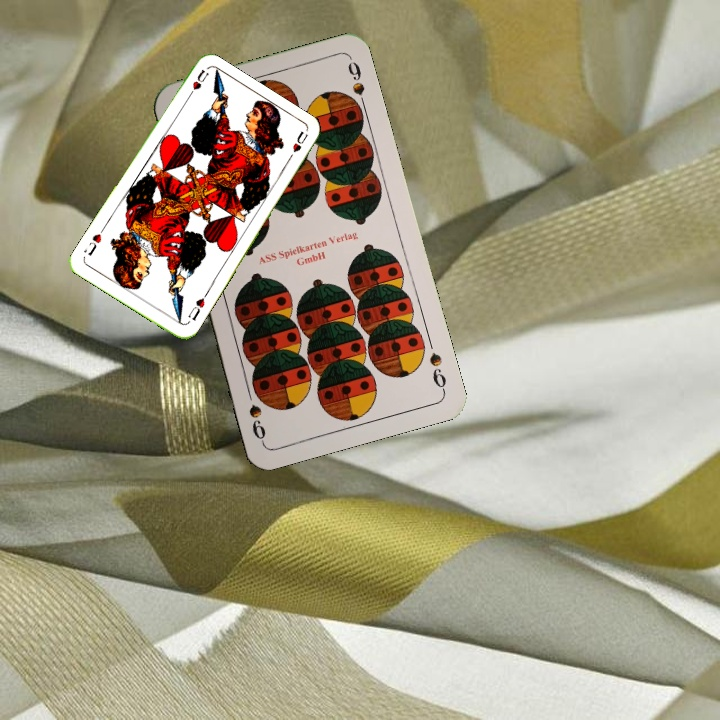HU: (182, 65, 211, 102), (184, 289, 210, 323)
S9: (425, 348, 449, 394)
